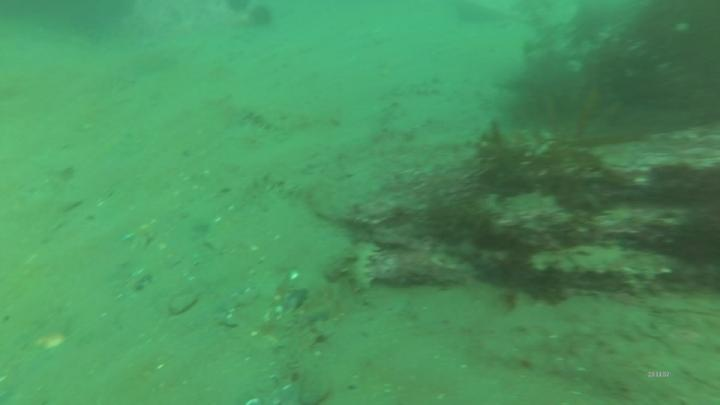holothurian: (346, 236, 382, 297)
